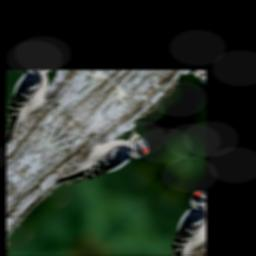Woodpecker: (49, 113, 158, 215)
